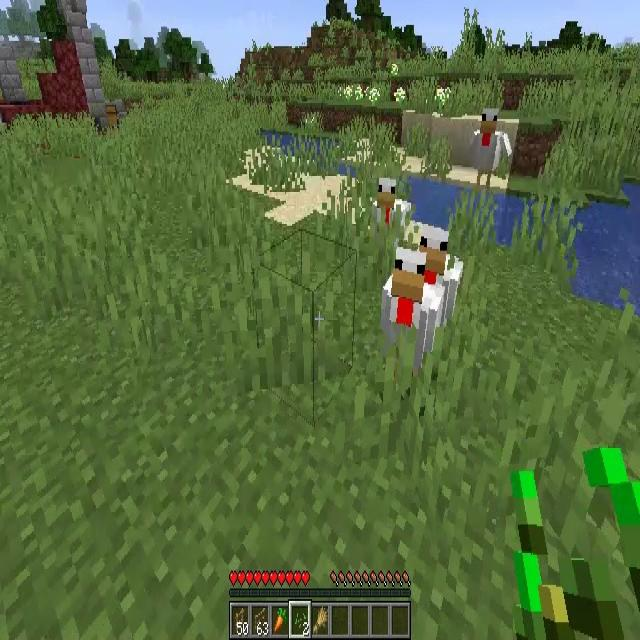duck: (384, 246, 442, 376), (418, 236, 466, 318), (469, 110, 511, 201), (376, 174, 412, 233)
flower: (436, 87, 450, 109), (395, 89, 405, 106), (342, 85, 352, 102), (354, 84, 364, 100), (368, 88, 381, 100), (390, 65, 399, 76)
